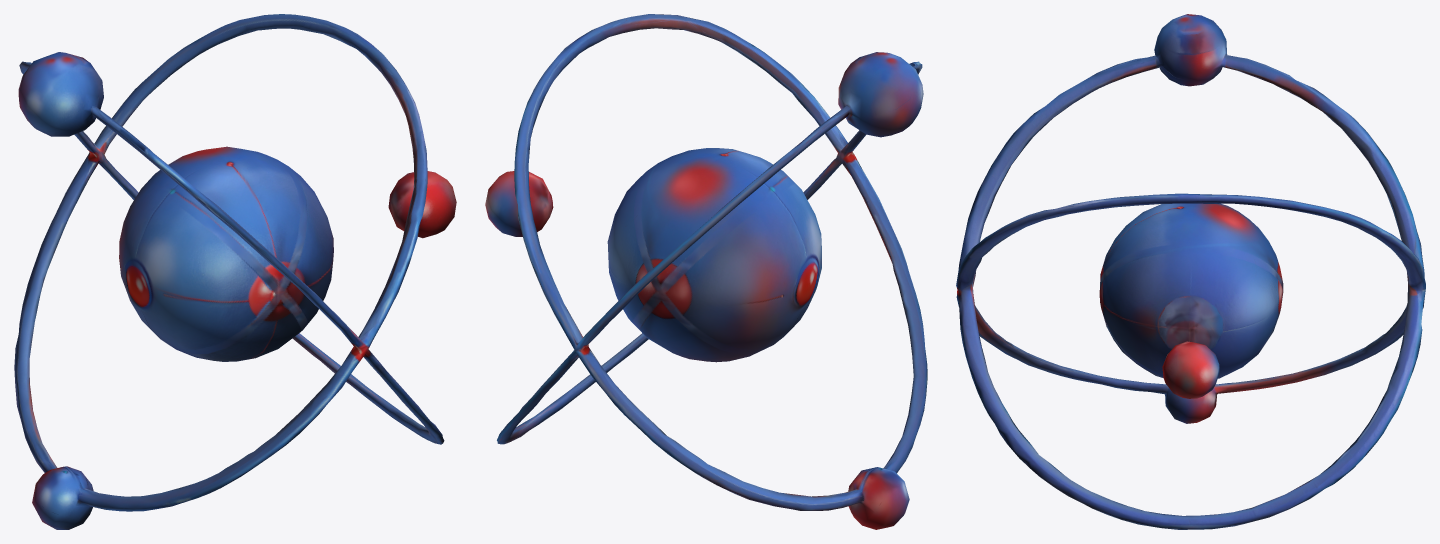
Rendered from atom_model.glb.
3 views of the same model, side by side, from view 1: azimuth 30°, elevation 25°; view 2: azimuth 150°, elevation 25°; view 3: azimuth 270°, elevation 25° (orthographic). The views are drawn at different scales.
Size of the model in its own units: 1.81 by 1.9 by 2.01.
Materials: 1 (1 with a texture image).
